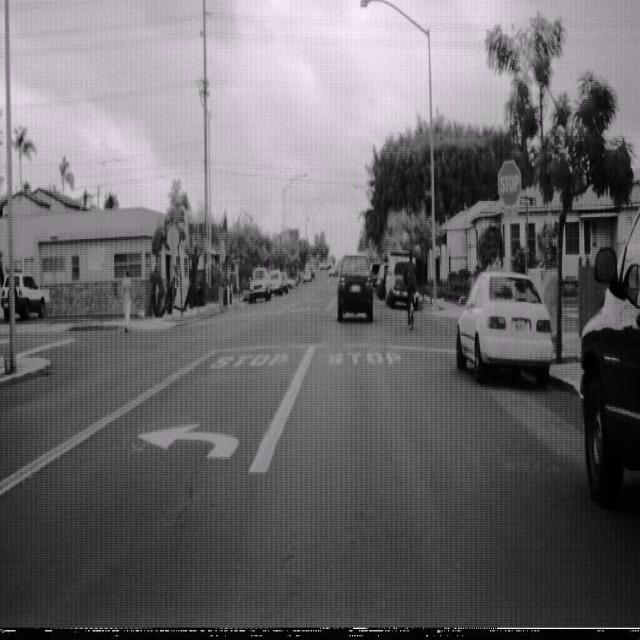stop_sign: (497, 158, 522, 209)
